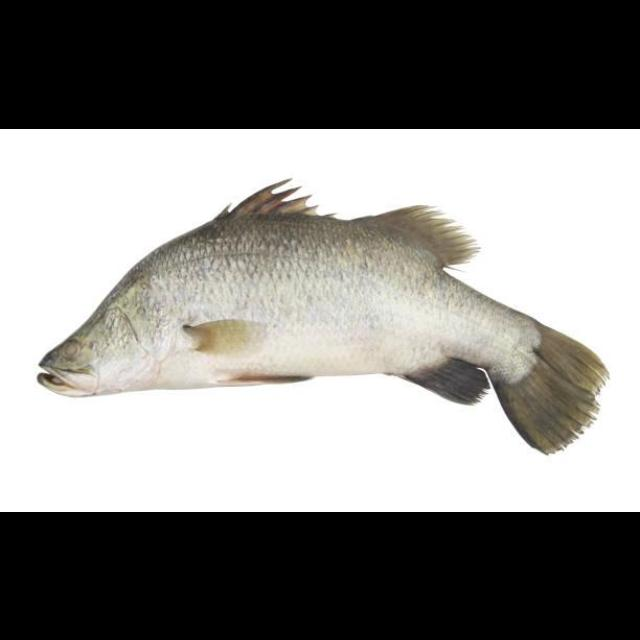Seabass: (35, 178, 607, 452)
